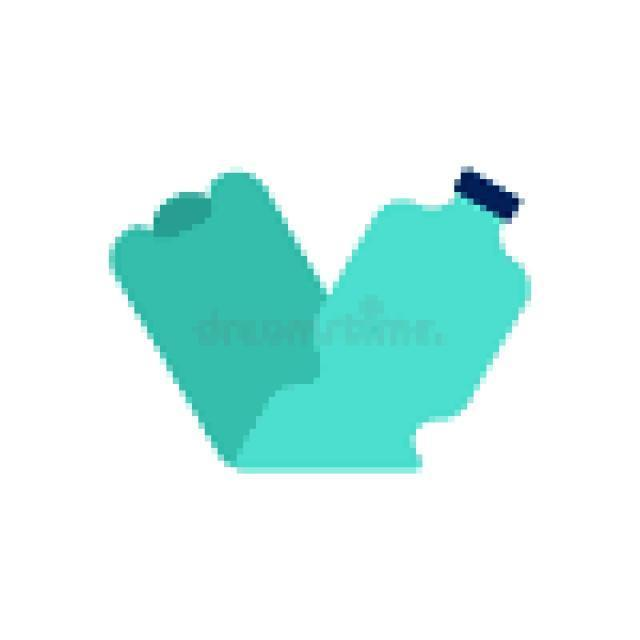bottle: (84, 139, 544, 503)
cap: (454, 161, 524, 226)
